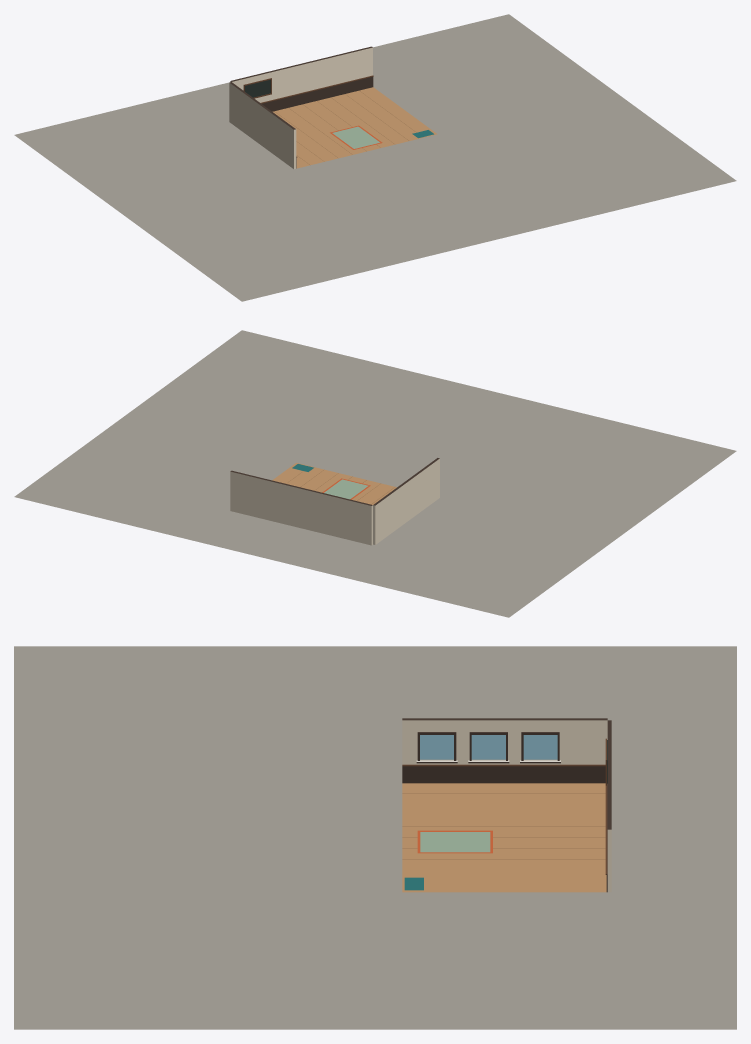
Rendered from shell_corner_low.fbx.
The picture shows the model from 3 angles, top to bottom: view 1: azimuth 30°, elevation 25°; view 2: azimuth 150°, elevation 25°; view 3: azimuth 270°, elevation 25°; orthographic projection. The views are drawn at different scales.
Parts seen in each view (by area): view 1: shell_corner_low; view 2: shell_corner_low; view 3: shell_corner_low.
Part boxes in pixels (x1,y1,x2,y2): shell_corner_low: (14, 14, 736, 301); shell_corner_low: (14, 330, 736, 617); shell_corner_low: (14, 646, 736, 1029).
Size of the model in its own units: 42 by 3.22 by 33.5.
